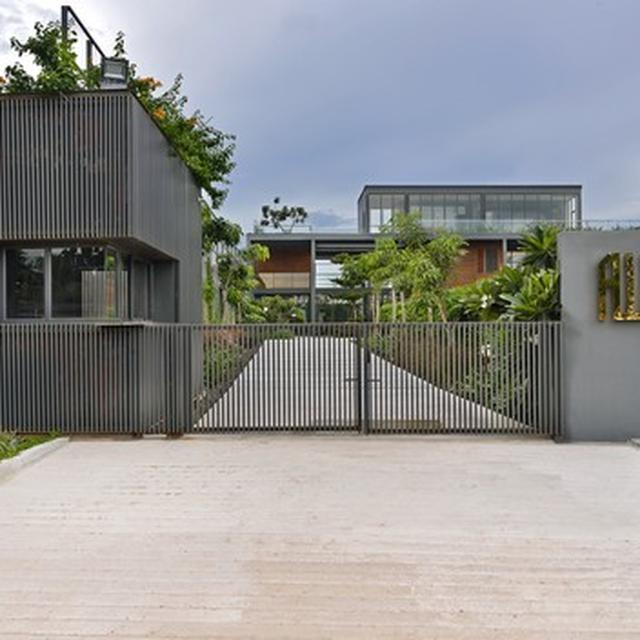building: (0, 76, 209, 440), (238, 181, 586, 324)
